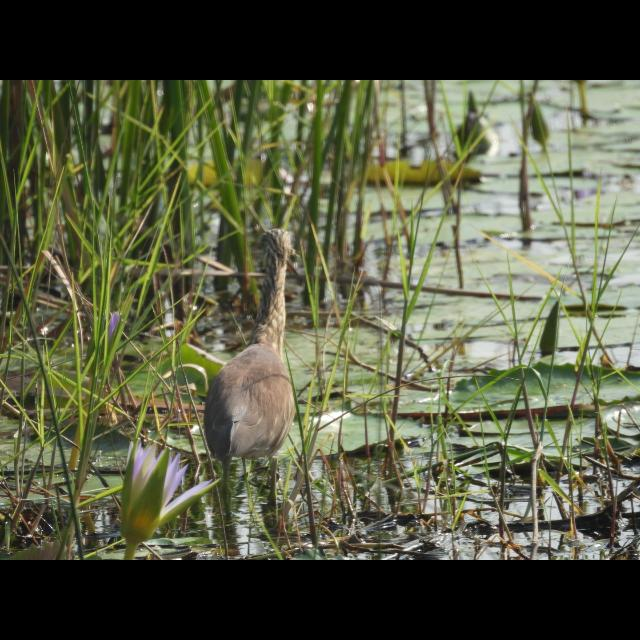heron: (205, 209, 308, 489)
